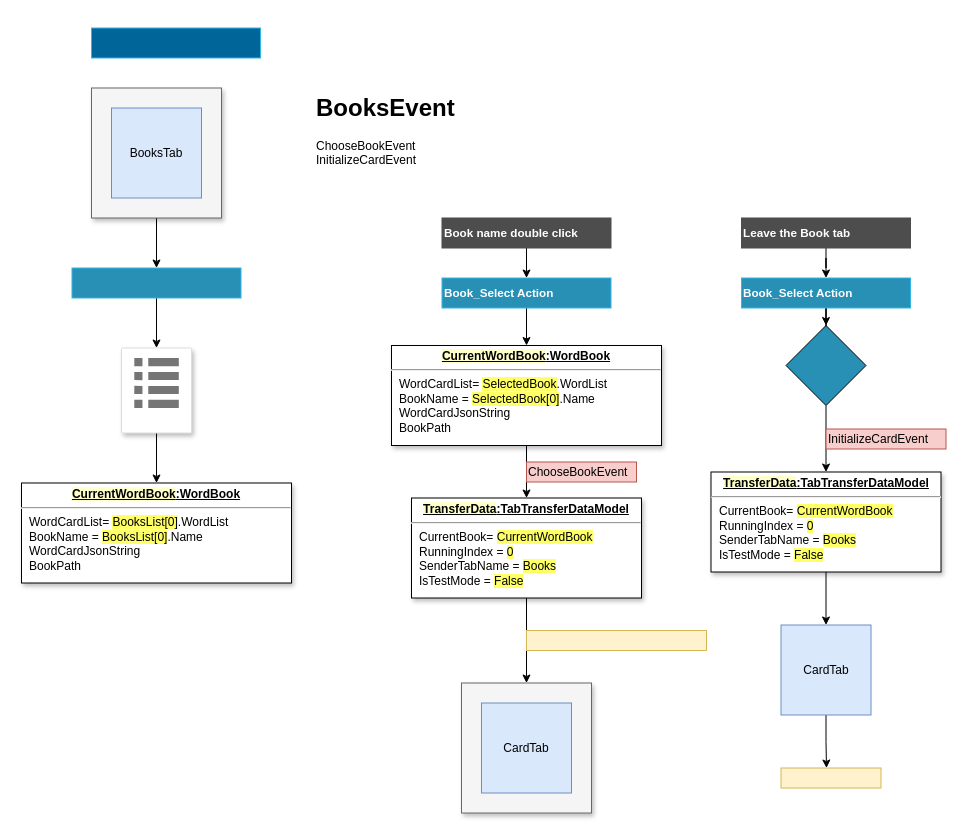
Image size: 965x837. Some labels were removed from this diagram. Each missing label, with the centre of its shape:
BooksList: point (157, 391)
CardInitialization: point (830, 777)
Is Begining: point (825, 365)
Load Action: point (156, 282)
LoadAndTurnToTabCard_Event: point (616, 640)
Start: point (175, 42)
